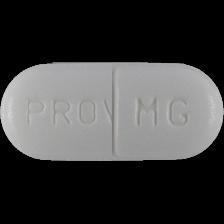54868-4897: (0, 0, 224, 224)
